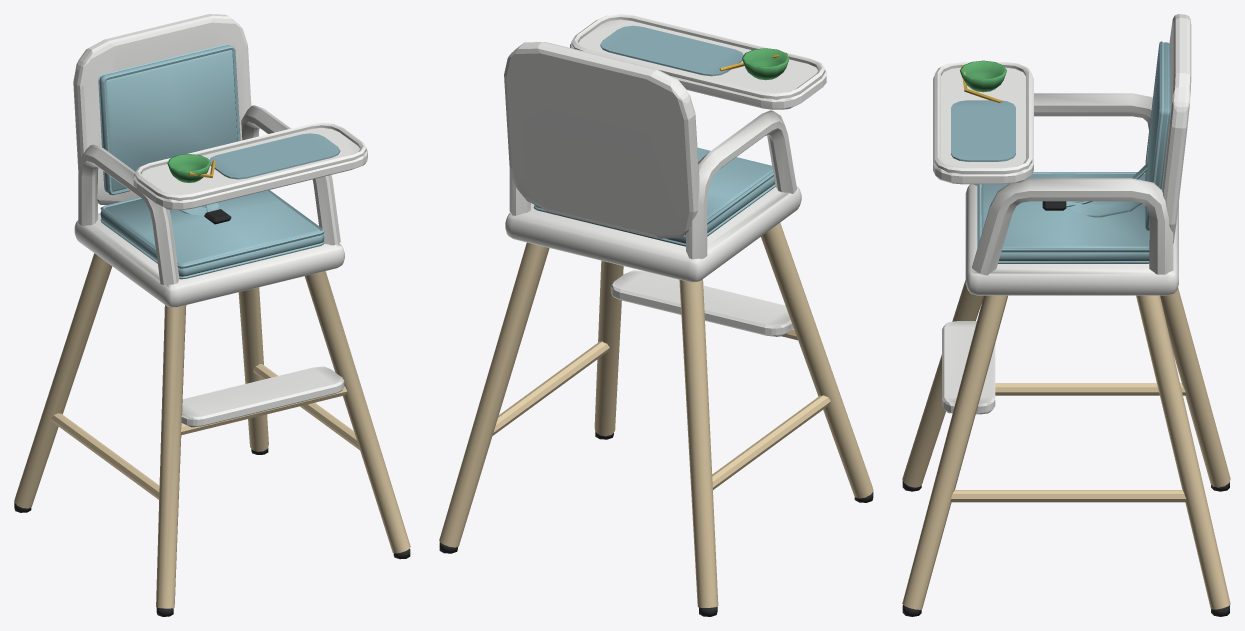
The model's file is highChair.glb.
The picture shows the model from 3 angles, left to right: view 1: azimuth 30°, elevation 25°; view 2: azimuth 150°, elevation 25°; view 3: azimuth 270°, elevation 25°; orthographic projection. The views are drawn at different scales.
Visible parts, largest first — view 1: body, tray; view 2: body, tray; view 3: body, tray.
Boxes of the visible parts, x1=… form: body: x1=14, y1=14, x2=410, y2=616; tray: x1=133, y1=122, x2=367, y2=209; body: x1=439, y1=42, x2=873, y2=616; tray: x1=570, y1=14, x2=826, y2=109; body: x1=902, y1=14, x2=1230, y2=616; tray: x1=933, y1=60, x2=1033, y2=184.
Bounding box in the file's own units: 0.5322 × 0.9397 × 0.5539.
